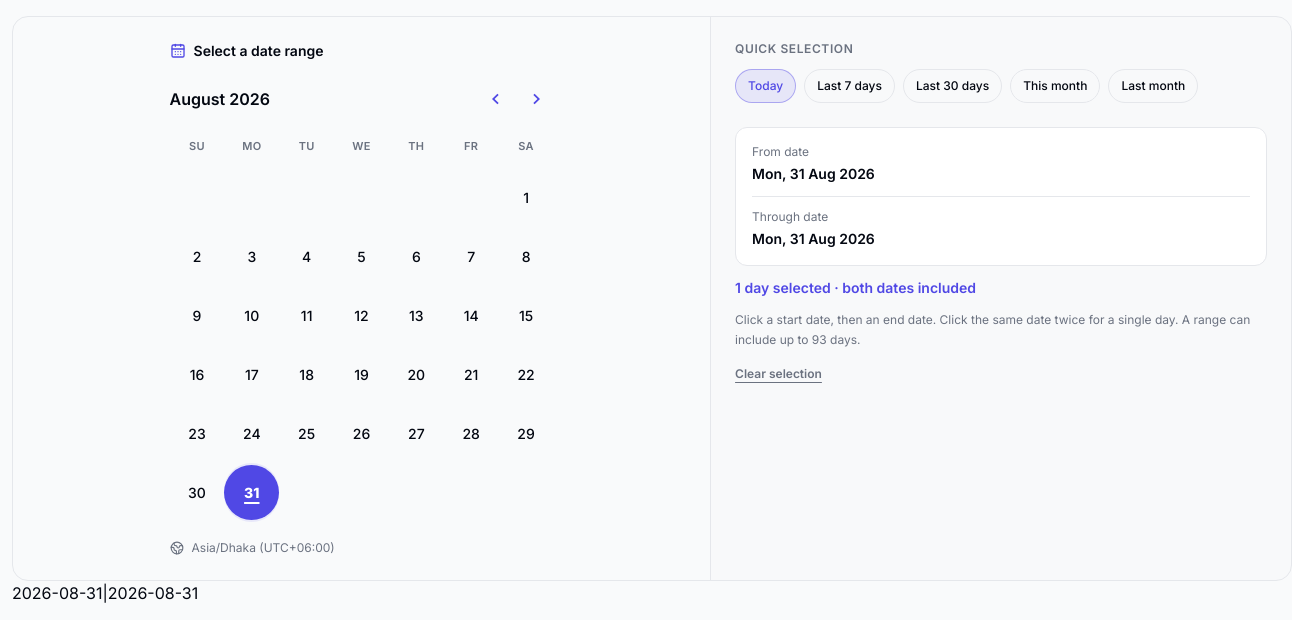
Test: PlacementDateRangePicker › supports reversed ranges and starts a fresh range after completion
Click the button named "August 20th, 2026". click: coordinates (416, 375)
box: [389,347,444,402]
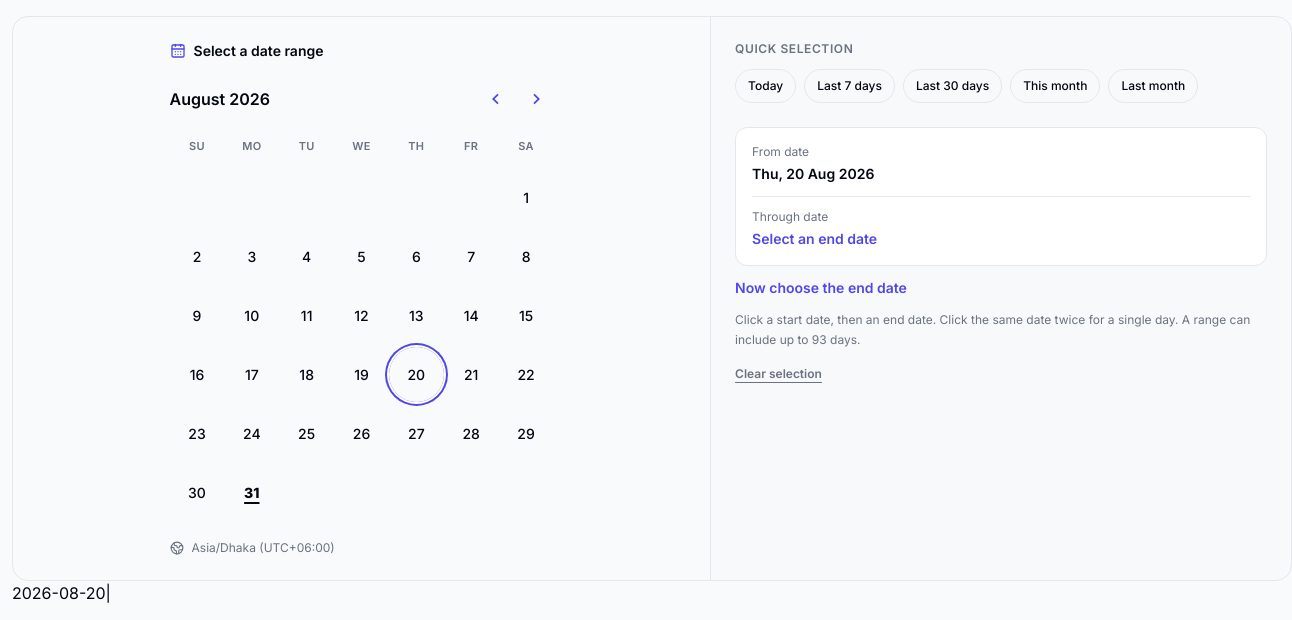
Click the button named "August 10th, 2026". click: coordinates (252, 316)
box: [224,288,279,343]
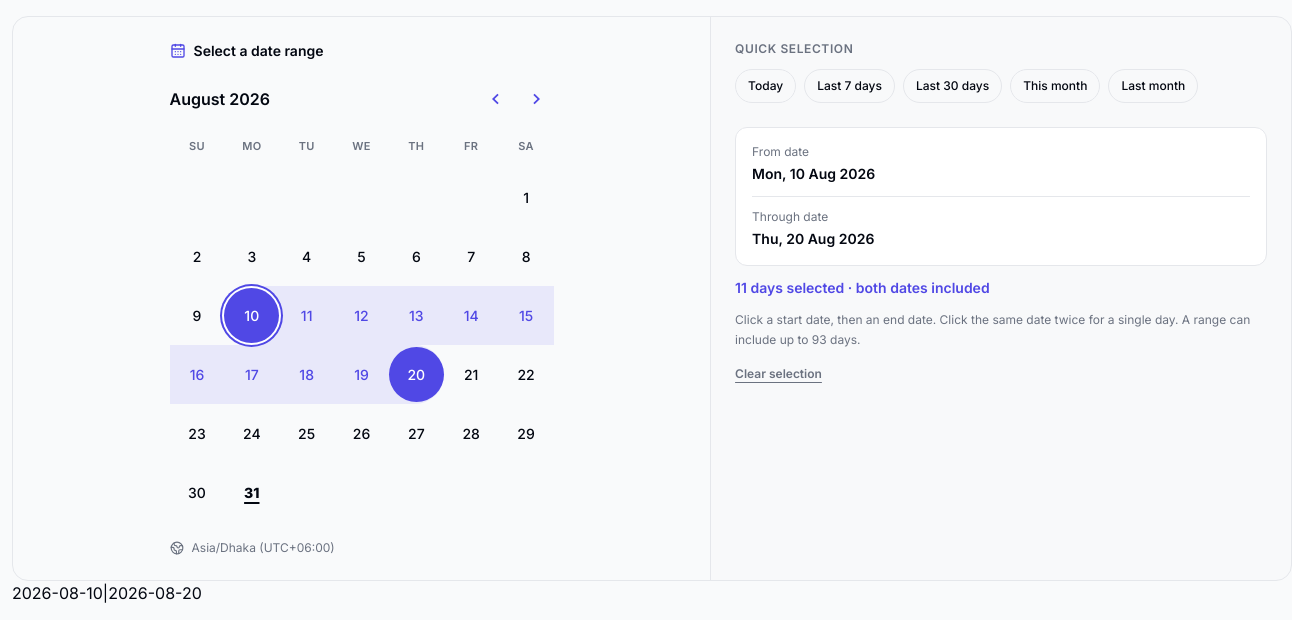
Expected: the text named "Selected range" reads "2026-08-10|2026-08-20", [12,583,103,603]
Click the button named "August 25th, 2026". click: coordinates (307, 434)
box: [279,406,334,461]
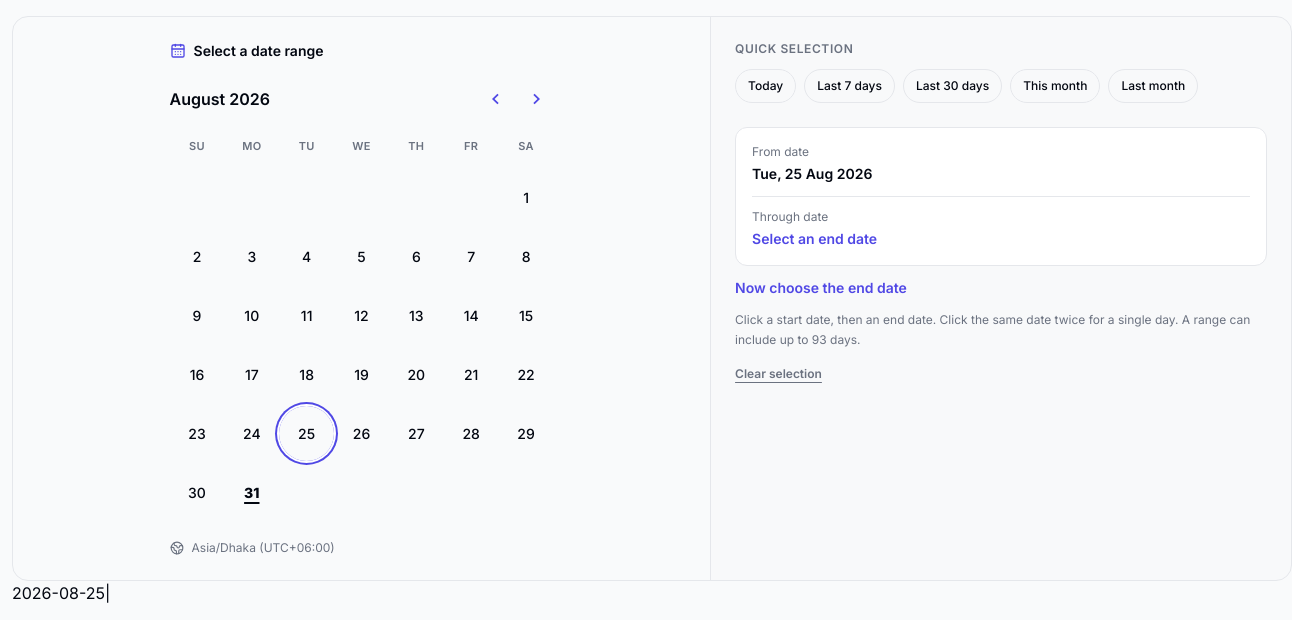
Expected: the text named "Selected range" reads "2026-08-25|", [12,583,105,603]
